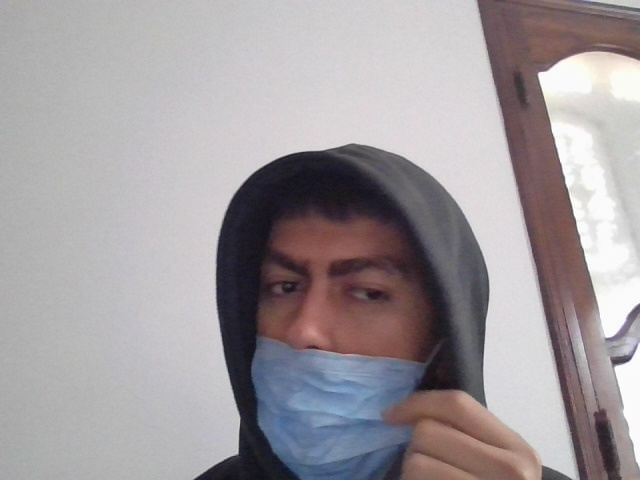mask_weared_incorrect: (237, 190, 439, 479)
